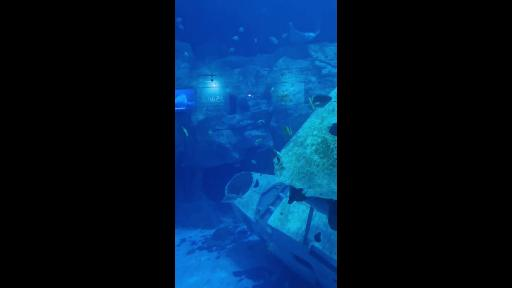Fish: (288, 186, 337, 230), (289, 23, 319, 43), (288, 186, 307, 204), (222, 194, 242, 202), (329, 123, 337, 137), (284, 126, 292, 137), (314, 232, 321, 242), (309, 98, 315, 109), (270, 37, 278, 44), (182, 127, 188, 136), (176, 17, 182, 23), (232, 36, 239, 41), (228, 48, 234, 52), (179, 24, 183, 30), (258, 120, 264, 124), (251, 160, 256, 164), (207, 130, 211, 135), (273, 148, 277, 153), (184, 52, 188, 56), (239, 28, 243, 32), (283, 34, 287, 38), (314, 102, 319, 105), (254, 38, 257, 43), (235, 163, 240, 166)
